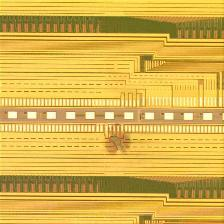PARTICLE: (104, 126, 135, 157)
